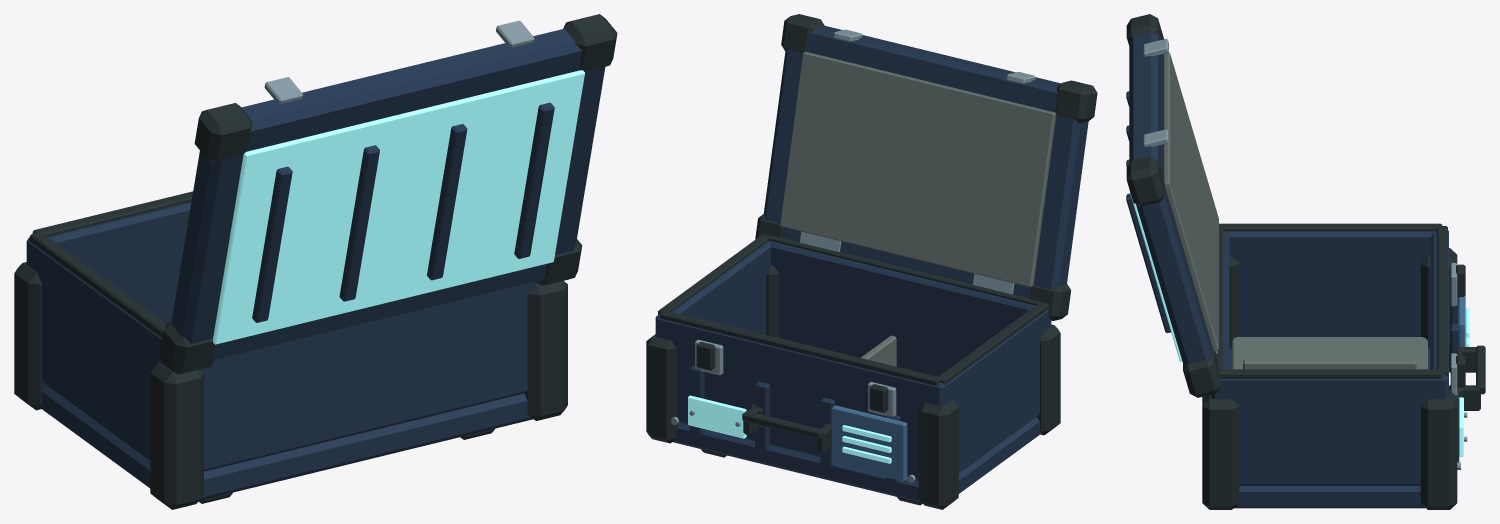
File: marine_waterproof_case_opened.glb
3 views of the same model, side by side, from view 1: azimuth 30°, elevation 25°; view 2: azimuth 150°, elevation 25°; view 3: azimuth 270°, elevation 25° (orthographic). The views are drawn at different scales.
Visible parts, largest first — view 1: moving_lid_inset, body_back_wall, moving_lid_shell, corner_guard (×3), body_left_wall, body_floor, moving_lid_rib (×4), body_front_wall, moving_lid_corner (×4), gasket_side, gasket_front, moving_latch_hook (×2); view 2: moving_lid_inner_pad, body_back_wall, moving_lid_shell, body_front_wall, corner_guard (×4), body_left_wall, body_floor, body_right_wall, front_identity_panel, moving_lid_corner (×3), gasket_front, gasket_side (×2) (+6 smaller); view 3: body_right_wall, body_left_wall, corner_guard (×4), moving_lid_shell, moving_lid_inner_pad, interior_lining, body_floor, gasket_side (×2), moving_lid_corner (×3), inner_partition, gasket_front, body_front_wall (+6 smaller).
Part boxes in pixels (x1=…): moving_lid_inset: x1=213, y1=70, x2=584, y2=344; body_back_wall: x1=164, y1=282, x2=536, y2=471; moving_lid_shell: x1=171, y1=28, x2=605, y2=359; corner_guard (×3): x1=14, y1=262, x2=567, y2=509; body_left_wall: x1=26, y1=237, x2=170, y2=460; body_floor: x1=40, y1=386, x2=532, y2=500; moving_lid_rib (×4): x1=252, y1=102, x2=554, y2=322; body_front_wall: x1=26, y1=202, x2=191, y2=323; moving_lid_corner (×4): x1=159, y1=14, x2=617, y2=374; gasket_side: x1=30, y1=232, x2=166, y2=337; gasket_front: x1=32, y1=191, x2=192, y2=236; moving_latch_hook (×2): x1=264, y1=20, x2=534, y2=103; moving_lid_inner_pad: x1=780, y1=52, x2=1056, y2=287; body_back_wall: x1=770, y1=241, x2=1046, y2=376; moving_lid_shell: x1=763, y1=25, x2=1088, y2=298; body_front_wall: x1=656, y1=318, x2=948, y2=481; corner_guard (×4): x1=646, y1=265, x2=1060, y2=509; body_left_wall: x1=930, y1=309, x2=1051, y2=473; body_floor: x1=672, y1=417, x2=1041, y2=502; body_right_wall: x1=655, y1=240, x2=770, y2=338; front_identity_panel: x1=832, y1=405, x2=907, y2=481; moving_lid_corner (×3): x1=781, y1=14, x2=1097, y2=320; gasket_front: x1=660, y1=311, x2=939, y2=385; gasket_side (×2): x1=658, y1=234, x2=1048, y2=384; body_right_wall: x1=1211, y1=373, x2=1448, y2=485; body_left_wall: x1=1225, y1=230, x2=1448, y2=336; corner_guard (×4): x1=1202, y1=248, x2=1457, y2=509; moving_lid_shell: x1=1129, y1=33, x2=1216, y2=366; moving_lid_inner_pad: x1=1163, y1=52, x2=1218, y2=351; interior_lining: x1=1232, y1=337, x2=1427, y2=369; body_floor: x1=1229, y1=348, x2=1430, y2=508; gasket_side (×2): x1=1218, y1=223, x2=1442, y2=378; moving_lid_corner (×3): x1=1126, y1=14, x2=1221, y2=397; inner_partition: x1=1243, y1=359, x2=1416, y2=369; gasket_front: x1=1436, y1=226, x2=1447, y2=375; body_front_wall: x1=1430, y1=231, x2=1448, y2=399.
Bounding box in the file's own units: 1.33 × 1.41 × 1.27.
